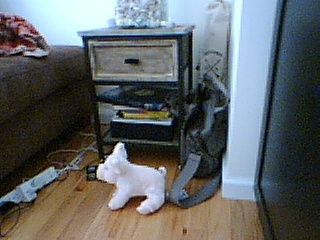piggy: (96, 141, 168, 217)
